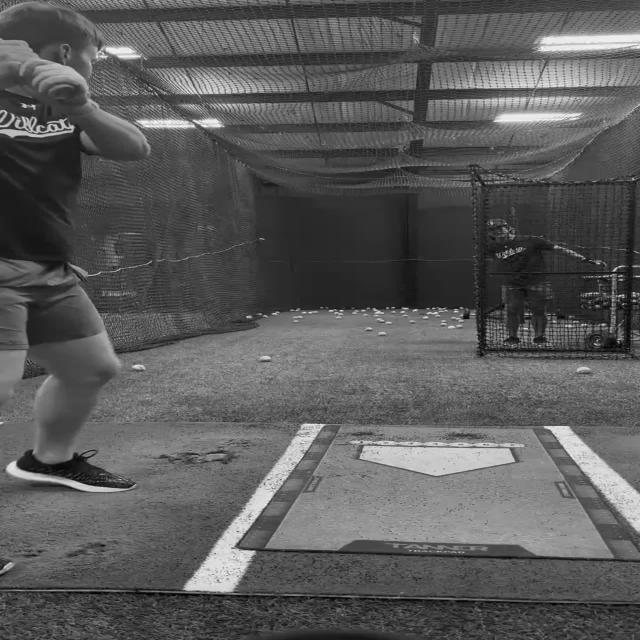baseball: (575, 366, 591, 374), (130, 364, 146, 371), (258, 355, 270, 362), (377, 332, 386, 336), (364, 327, 372, 331)
shoe: (5, 448, 136, 492), (531, 337, 554, 347), (501, 336, 521, 346)
